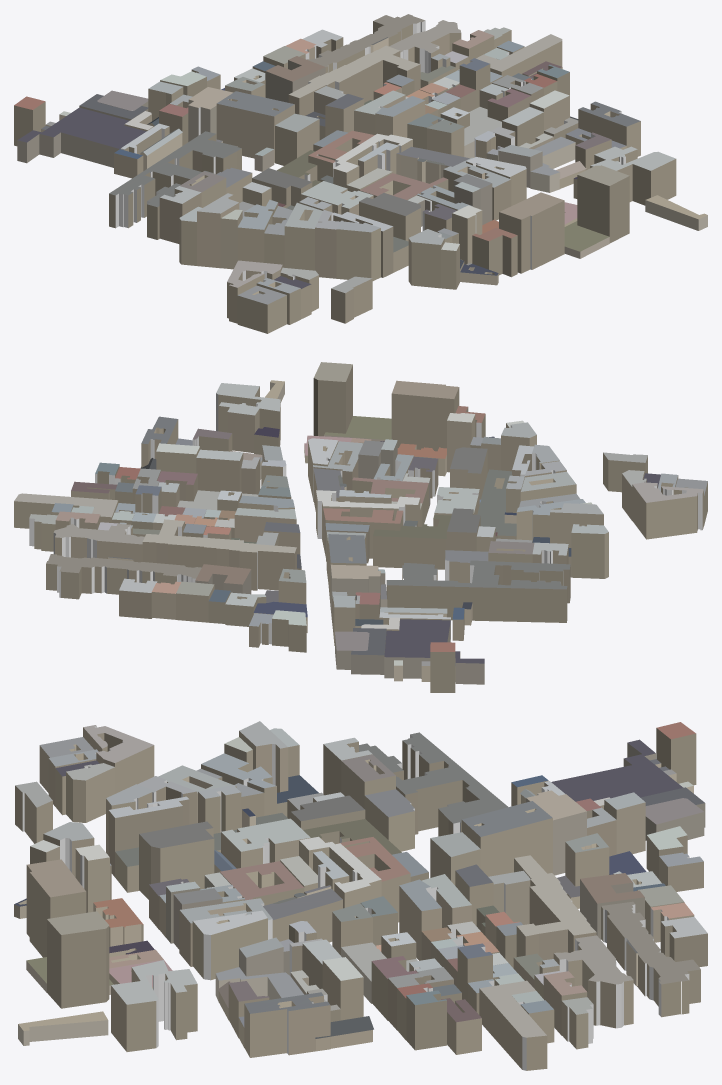
3 views of the same model, one above another, from view 1: azimuth 30°, elevation 25°; view 2: azimuth 150°, elevation 25°; view 3: azimuth 270°, elevation 25° (orthographic). The views are drawn at different scales.
Parts seen in each view (by area): view 1: tuile; view 2: tuile; view 3: tuile.
Part boxes in pixels (x1,y1,x2,y2): tuile: (14, 14, 707, 333); tuile: (14, 362, 707, 692); tuile: (14, 721, 707, 1070).
Bounding box in the file's own units: 284 × 33.33 × 266.
